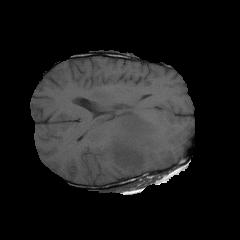glioma: (105, 106, 173, 174)
